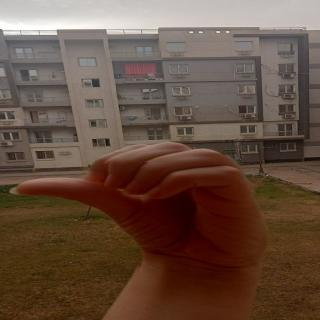WAW: (8, 142, 268, 248)
